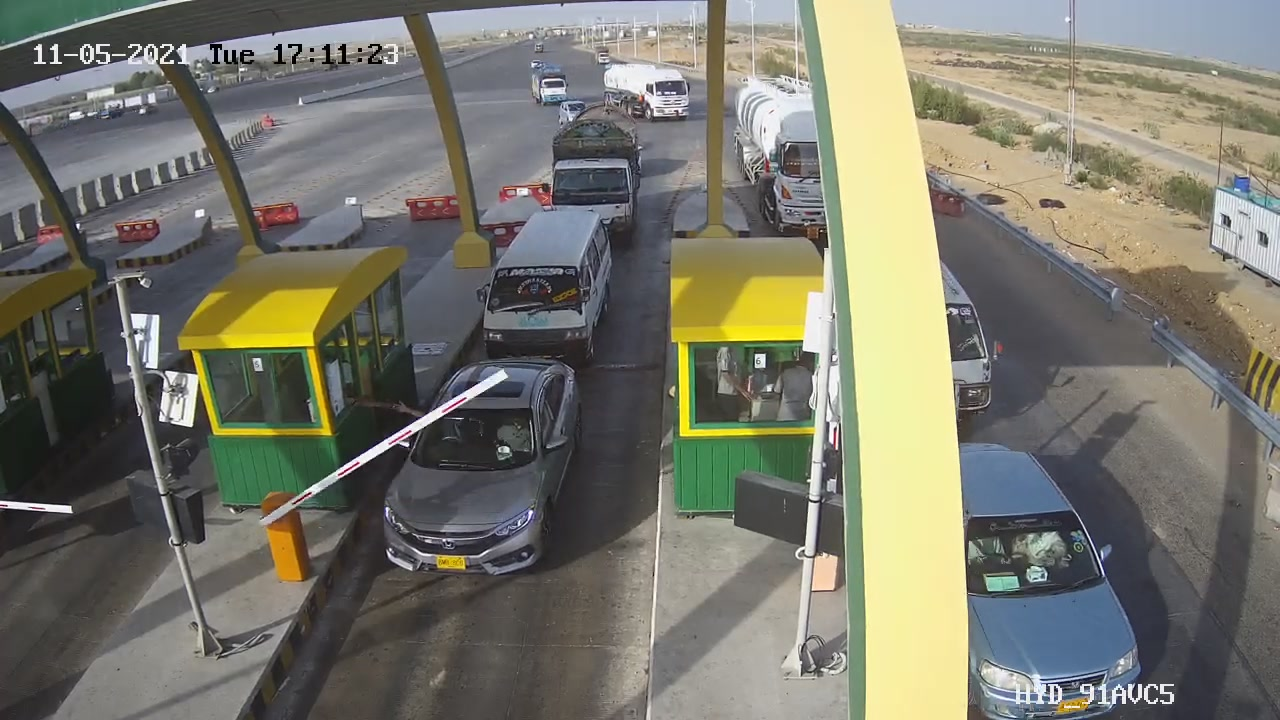F1: (368, 344, 590, 596)
F2: (479, 200, 632, 378)
